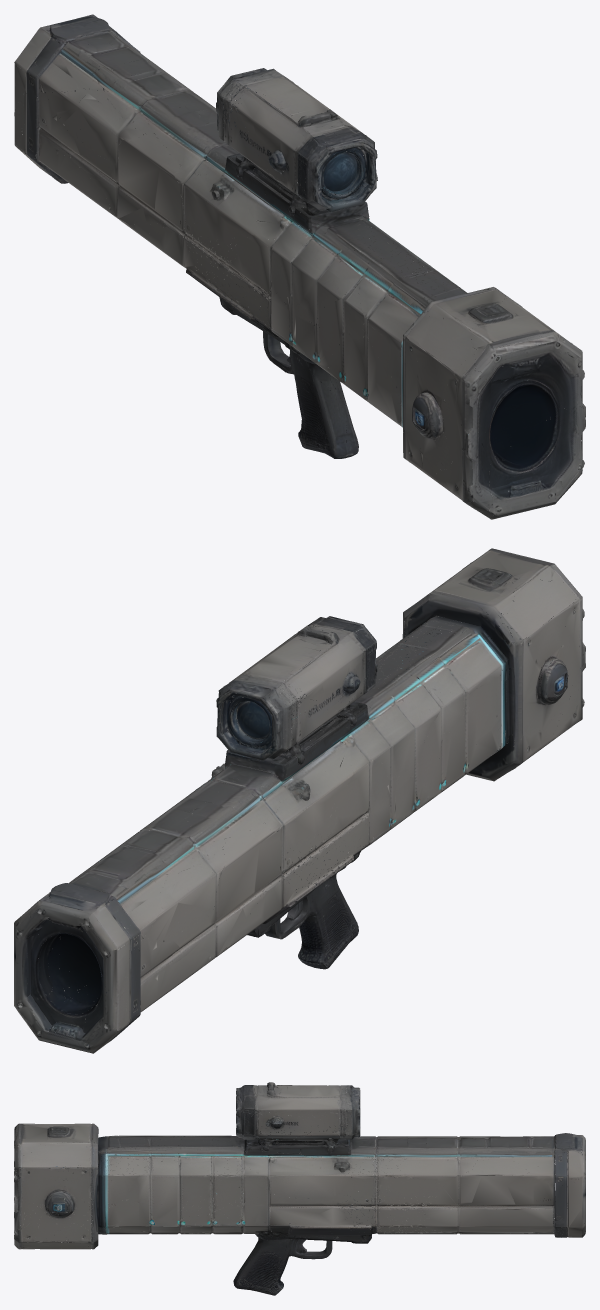
Rendered from em120r_viewmodel.glb.
3 renders of one model, top to bottom at view 1: azimuth 30°, elevation 25°; view 2: azimuth 150°, elevation 25°; view 3: azimuth 270°, elevation 25°, orthographic. The views are drawn at different scales.
Visible parts, largest first — view 1: node_0; view 2: node_0; view 3: node_0.
Boxes of the visible parts, <box> form: node_0: <box>14,14,585,519</box>; node_0: <box>14,548,585,1053</box>; node_0: <box>14,1082,585,1295</box>.
Bounding box in the file's own units: 0.2145 × 0.478 × 1.2.
Materials: 1 (1 with a texture image).
